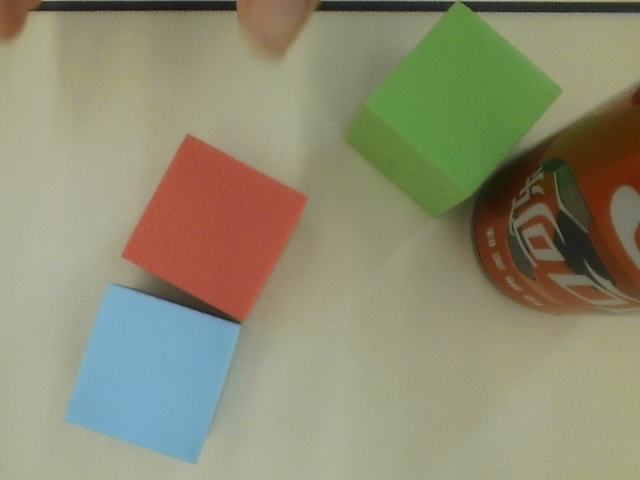bluecube: (45, 274, 252, 470)
cola: (467, 76, 640, 327)
greencube: (336, 2, 573, 227)
redcube: (114, 127, 316, 325)
